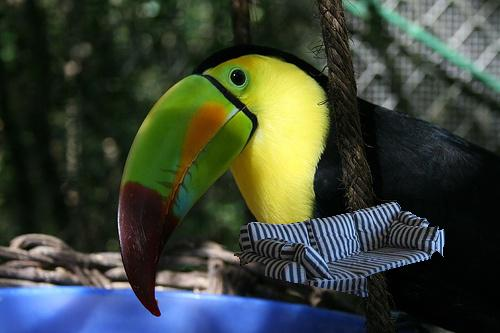tampered: (235, 203, 445, 297)
